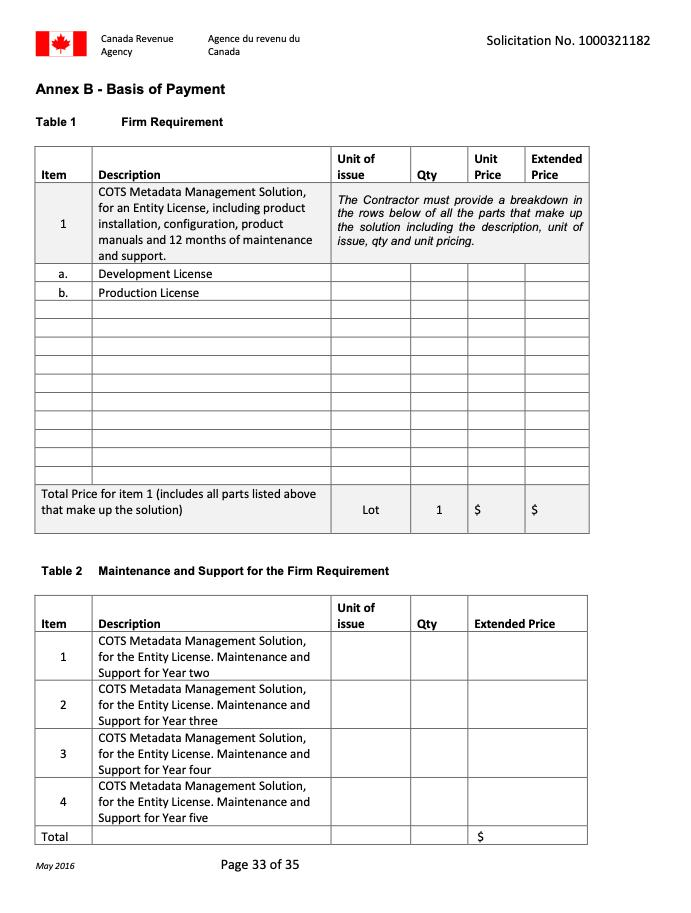tabulation: (33, 141, 591, 541), (31, 590, 591, 849)
